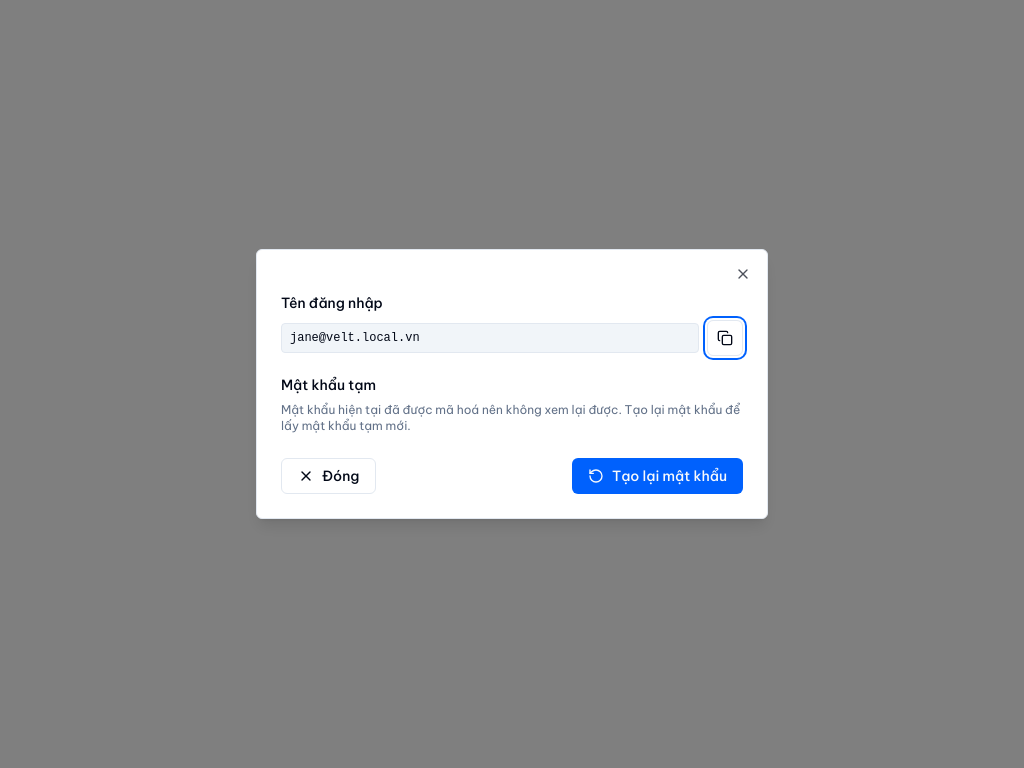
UserCredentialsDialog › surfaces a server refusal instead of a stale password
Click the button "Tạo lại mật khẩu": (657, 476) [572,458,743,494]
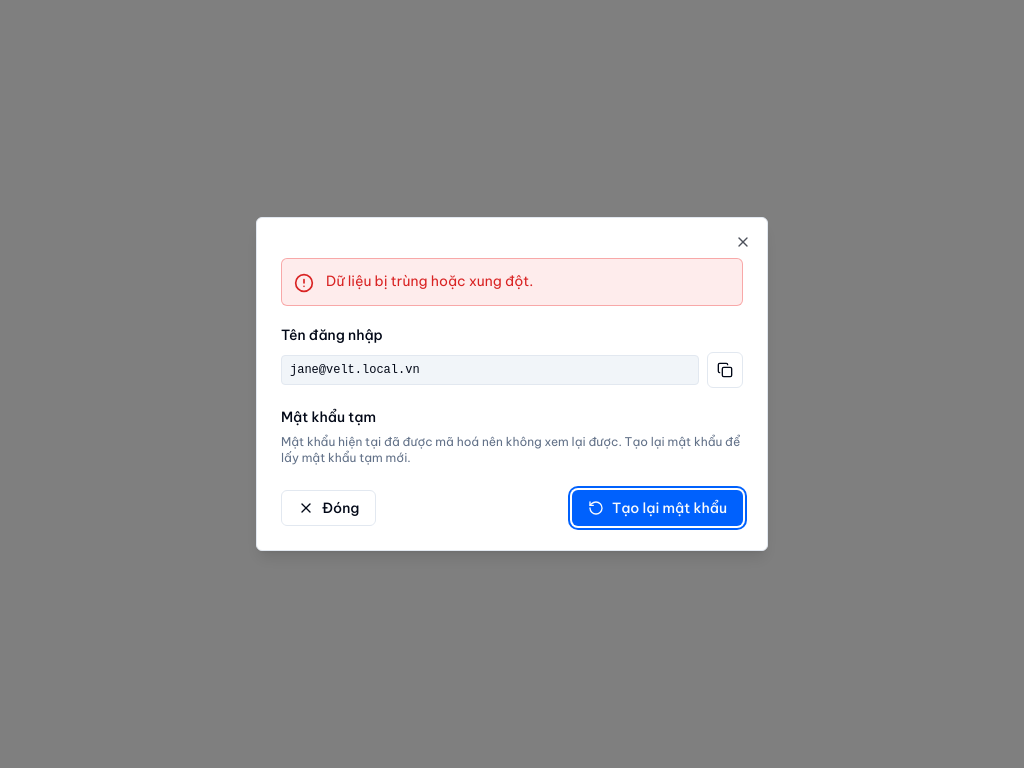
Expected: the text "Mật khẩu hiện tại đã được mã hoá nên không xem lại được. Tạo lại mật khẩu để lấy mật khẩu tạm mới." is shown, [281,434,740,465]
Now the message "Dữ liệu bị trùng hoặc xung đột." is shown, box [281,258,743,306]
